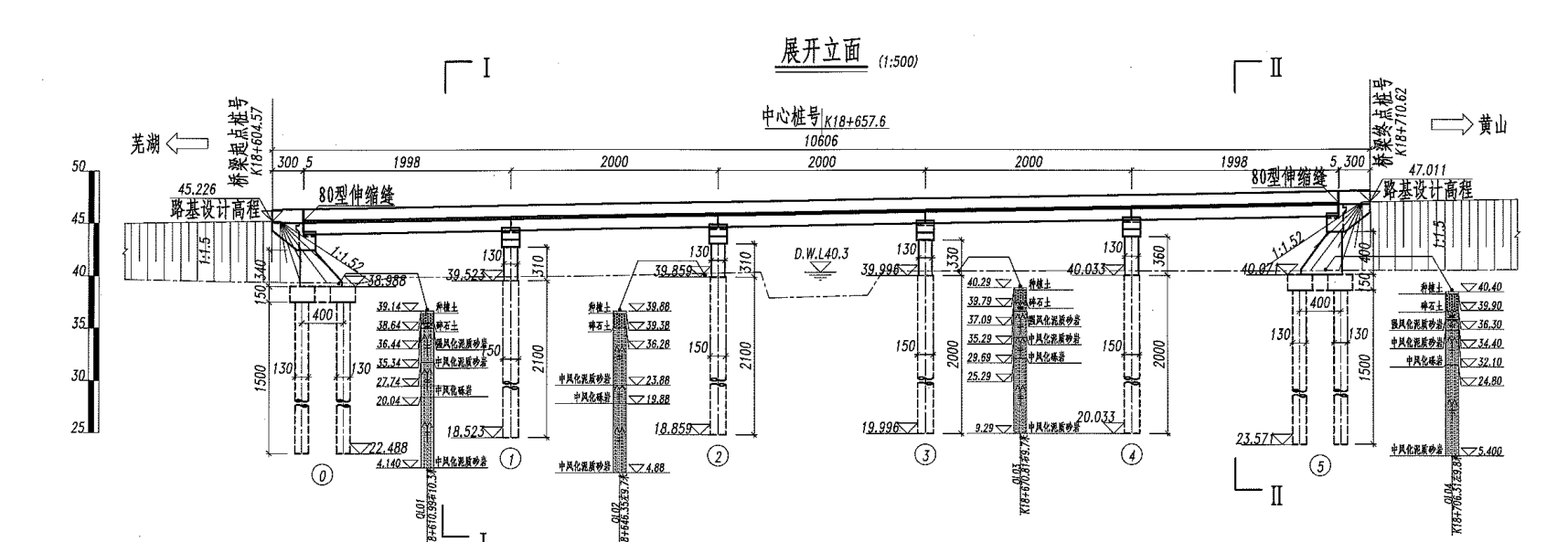C: (1227, 257, 1361, 483), (849, 211, 949, 468), (1060, 209, 1155, 468), (440, 220, 534, 474), (649, 216, 741, 470)
D: (788, 239, 857, 285)
